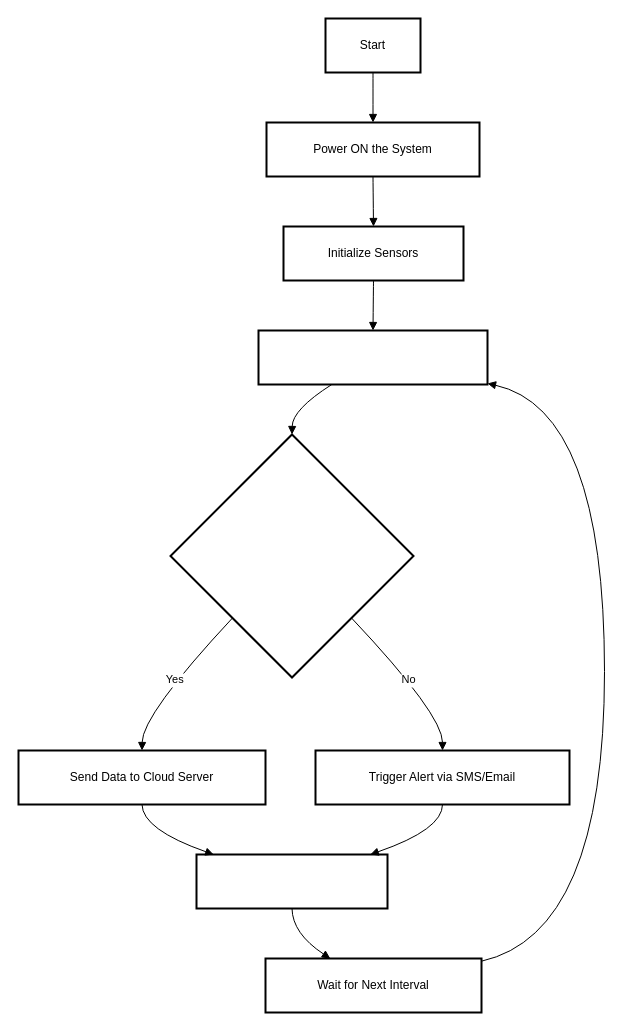
The diagram is 622 pixels wide and 1030 high, and some of its shapes have lost their labels. The shapes that lost their labels are listed below. From the top down, each one's centre as x and y in pixels, then its label:
At (372,357): "Read Data from Sensors".
At (291,555): "Is Data Within Safe Range?".
At (291,881): "Update Dashboard".
